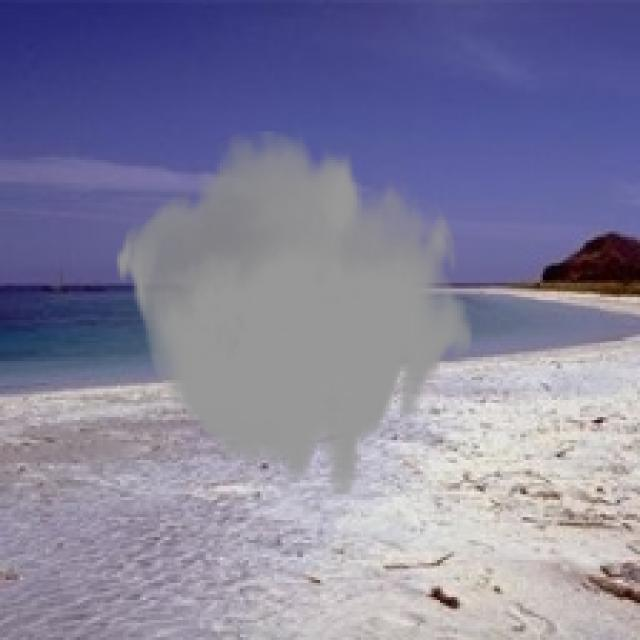Smoke: (114, 132, 474, 494)
